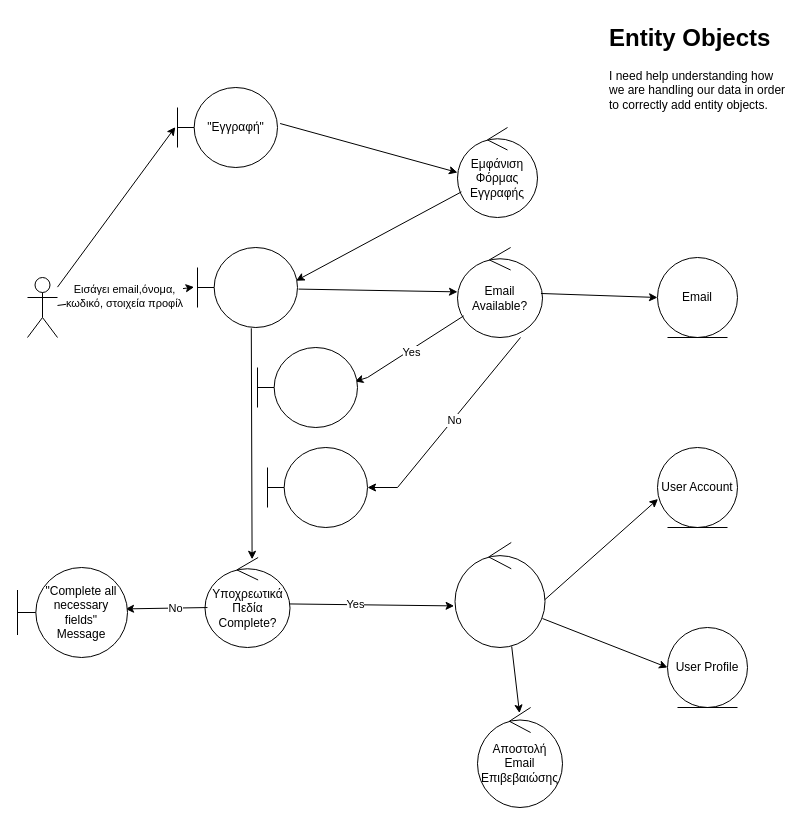
Image size: 805x825. Some labels were removed from this diagram. The shapes that lost their labels are listed below. From the top down, each one's centre as x and y in pixels, then its label:
the point at 42,307: User
the point at 247,287: Φόρμα Εγγραφής
the point at 307,387: "Email OK" Message
the point at 317,487: "Select another email" Mesage
the point at 499,595: Καταχώρηση Χρήστη
